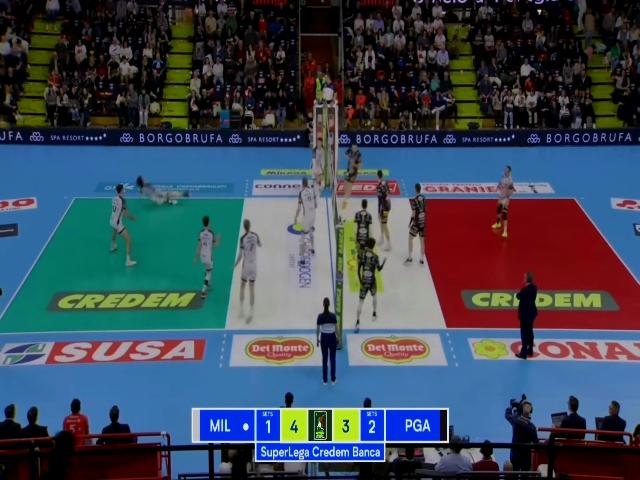volleyball court: (0, 194, 639, 337)
